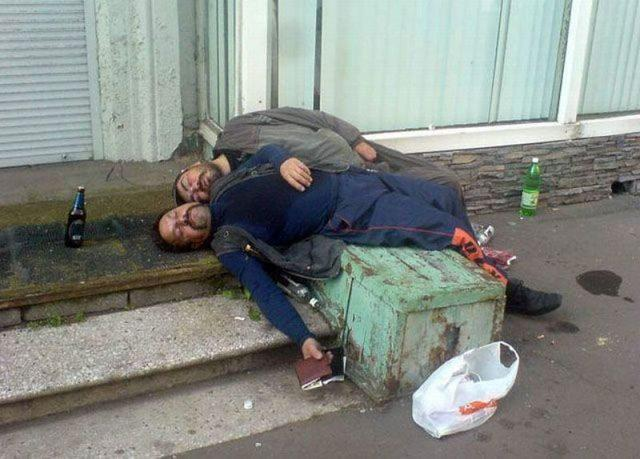Drunk: (158, 205, 210, 241), (178, 164, 217, 199)
